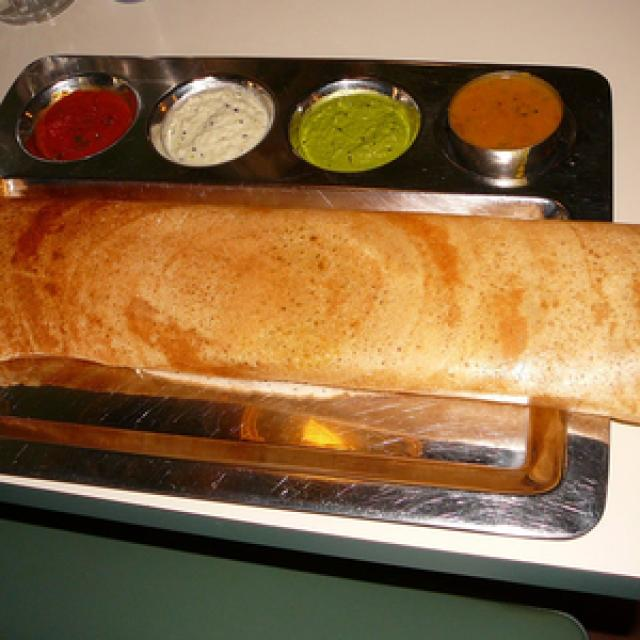dosa: (0, 167, 640, 440)
